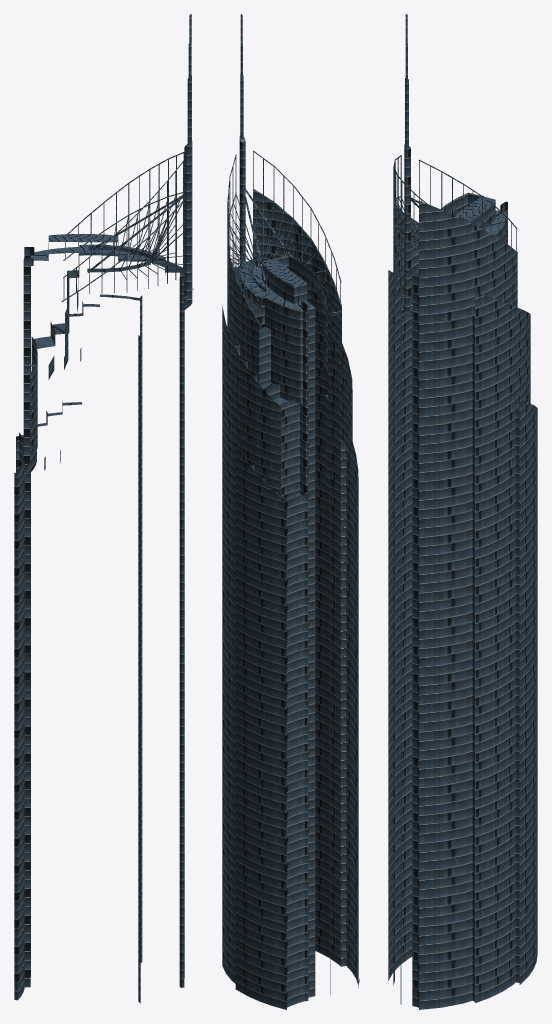
File: q1_tower.glb
3 views of the same model, side by side, from view 1: azimuth 30°, elevation 25°; view 2: azimuth 150°, elevation 25°; view 3: azimuth 270°, elevation 25° (orthographic). The views are drawn at different scales.
Visible parts, largest first — view 1: geometry_0; view 2: geometry_0; view 3: geometry_0.
Part boxes in pixels (x1,y1,x2,y2): geometry_0: (14, 14, 193, 1003); geometry_0: (222, 14, 359, 1009); geometry_0: (388, 14, 537, 1009).
Bounding box in the file's own units: 52.84 × 322 × 43.79.
Materials: 1 (1 with a texture image).
